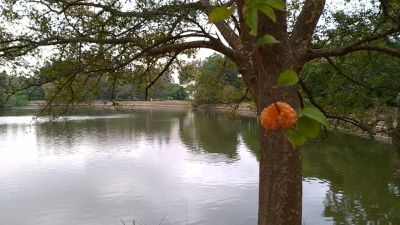eggs: (259, 101, 298, 131)
